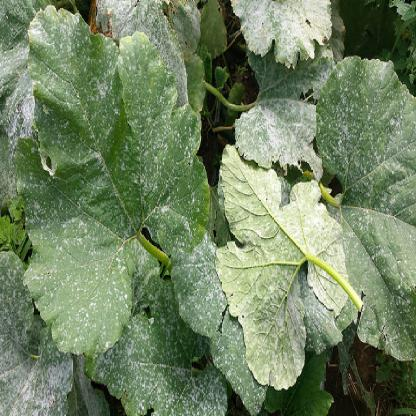Squash Powdery mildew leaf: (22, 1, 213, 352), (214, 139, 351, 398), (317, 45, 415, 362), (231, 1, 337, 176)
